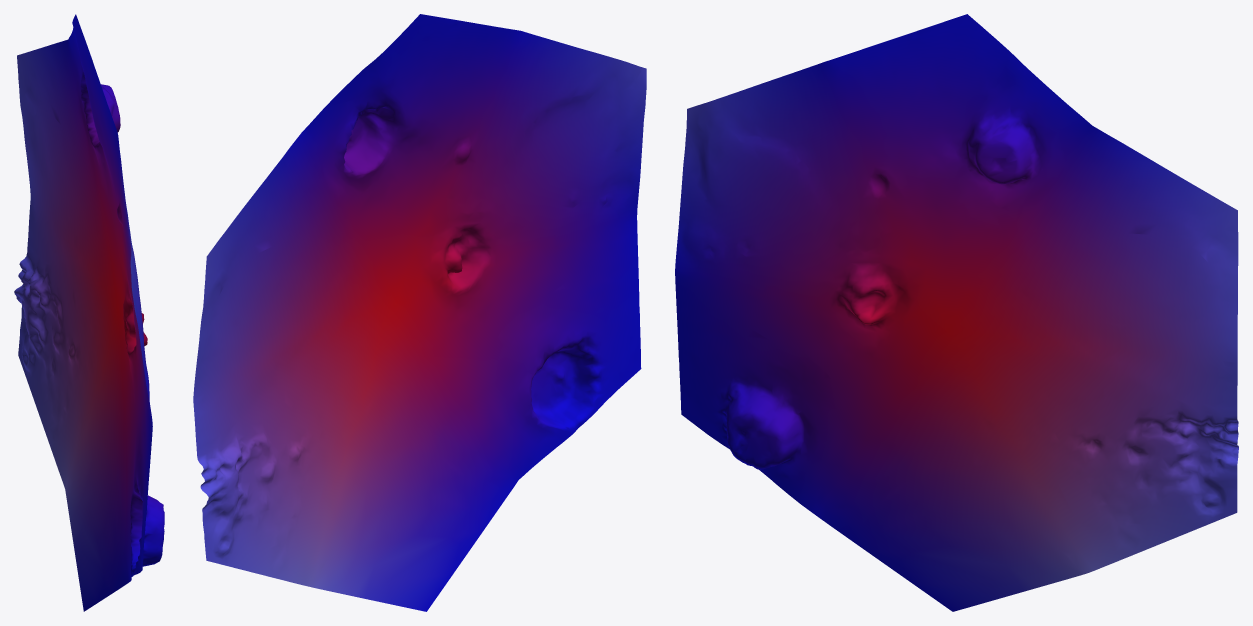
Rendered from Hex_17.fbx.
3 renders of one model, left to right at view 1: azimuth 30°, elevation 25°; view 2: azimuth 150°, elevation 25°; view 3: azimuth 270°, elevation 25°, orthographic.
Visible parts, largest first — view 1: Hex_17; view 2: Hex_17; view 3: Hex_17.
Part boxes in pixels (x1,y1,x2,y2): Hex_17: (14,14,164,611); Hex_17: (193,14,646,611); Hex_17: (675,14,1238,611).
Bounding box in the file's own units: 155 × 510 × 436.
